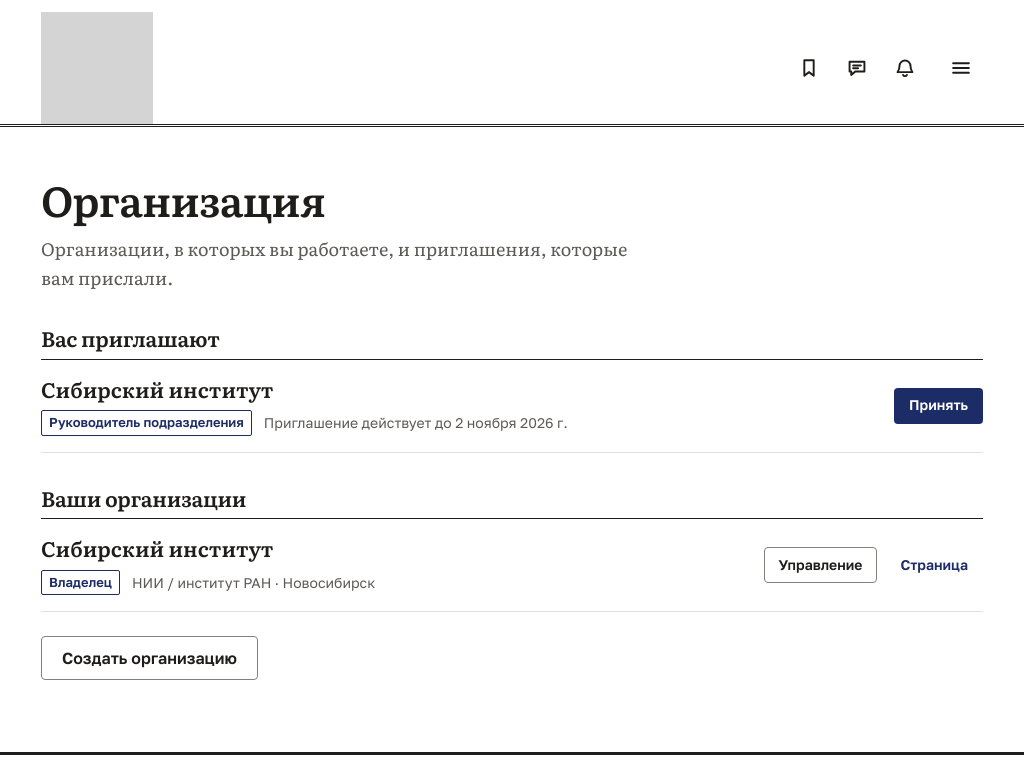
my organizations › shows an invitation without a unit, and tells when accepting fails
Expected: the heading "Вас приглашают" is shown, [41,325,983,360]
Click the button "Принять". click: (939, 406)
box: [894,388,983,424]
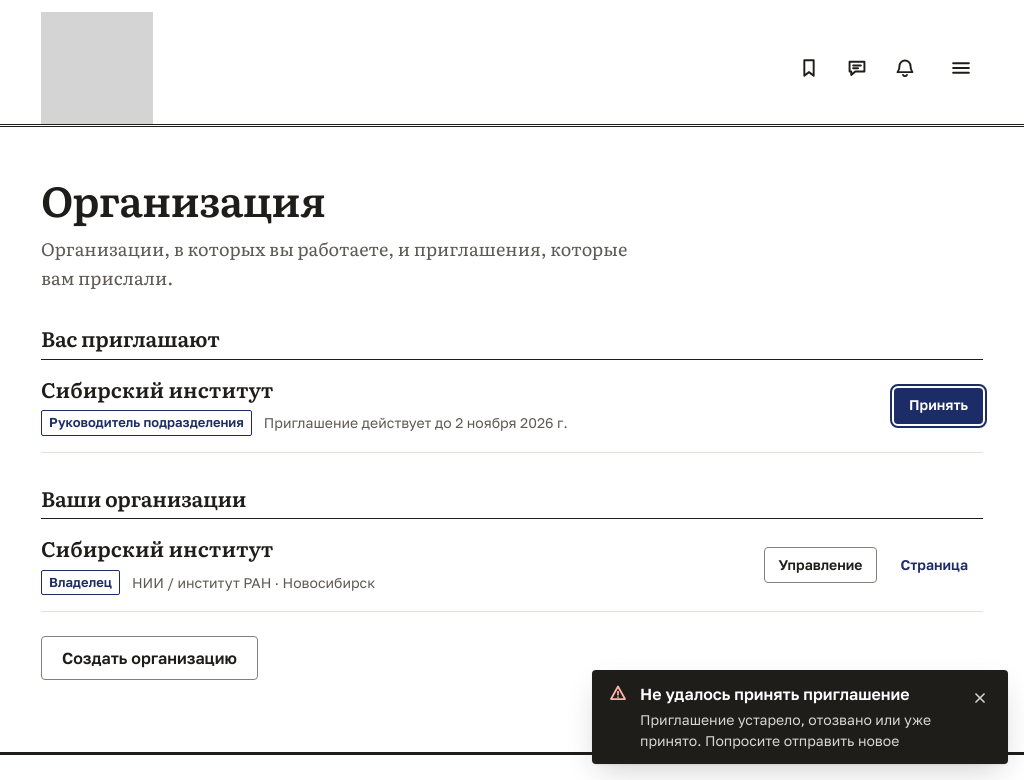
Now the text "Не удалось принять приглашение" is shown, box [640,682,952,707]
Now the text "Приглашение устарело" is shown, box [640,711,931,749]
